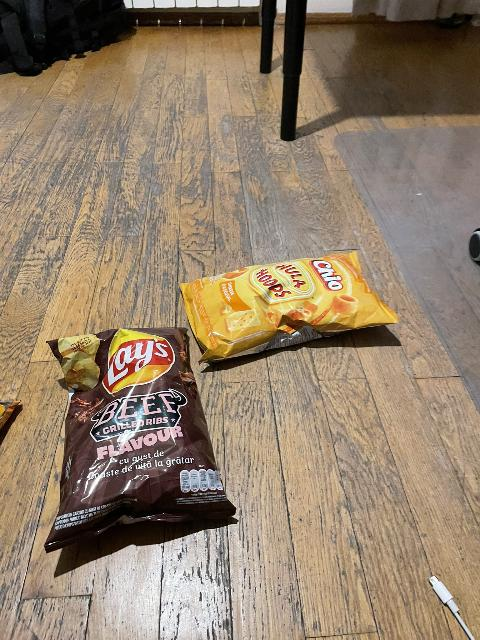Chio Hula Hoops Cheese 70g: (182, 255, 392, 353)
Lays Beef Grilled Ribs 125g: (42, 330, 240, 552)
